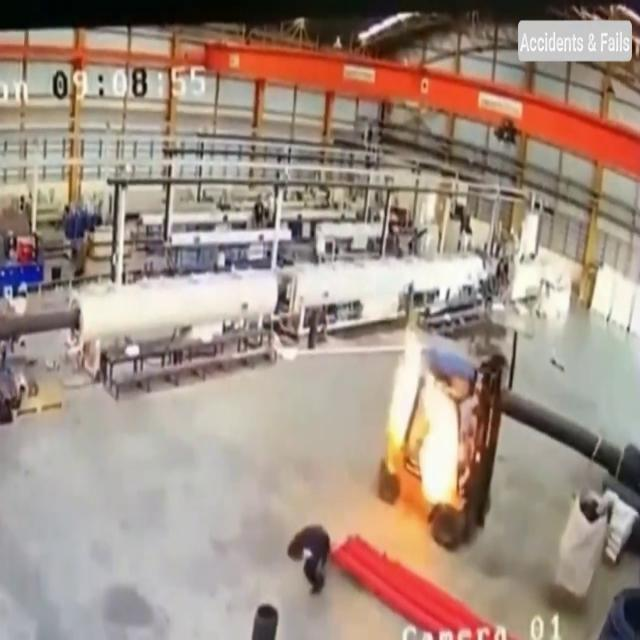Fire: (380, 304, 480, 518)
